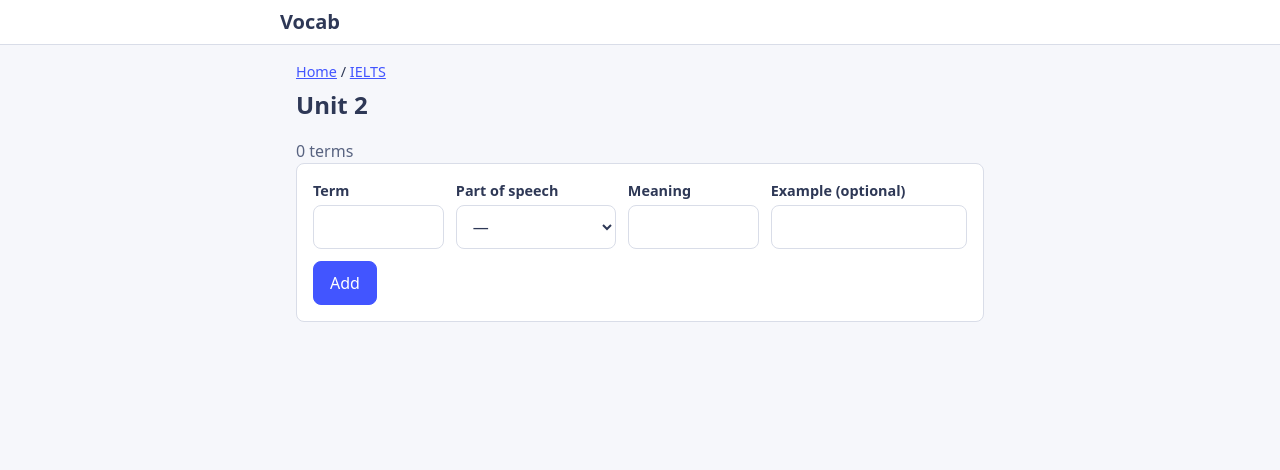
Test: terms › asks before deleting a term
The width and height of the screenshot is (1280, 470).
Expected: the heading "Unit 2" is shown, [296,88,368,121]
Type "walk" into the field labelled "Term" at (378, 227), box [313,205,444,249]
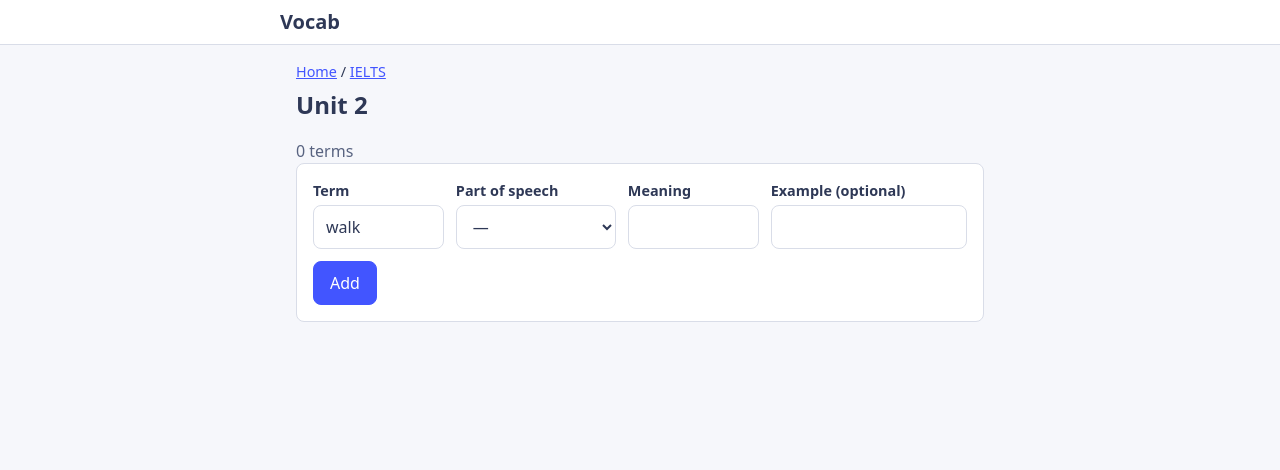
Type "đi bộ" into the field labelled "Meaning" at (693, 227), box [628,205,759,249]
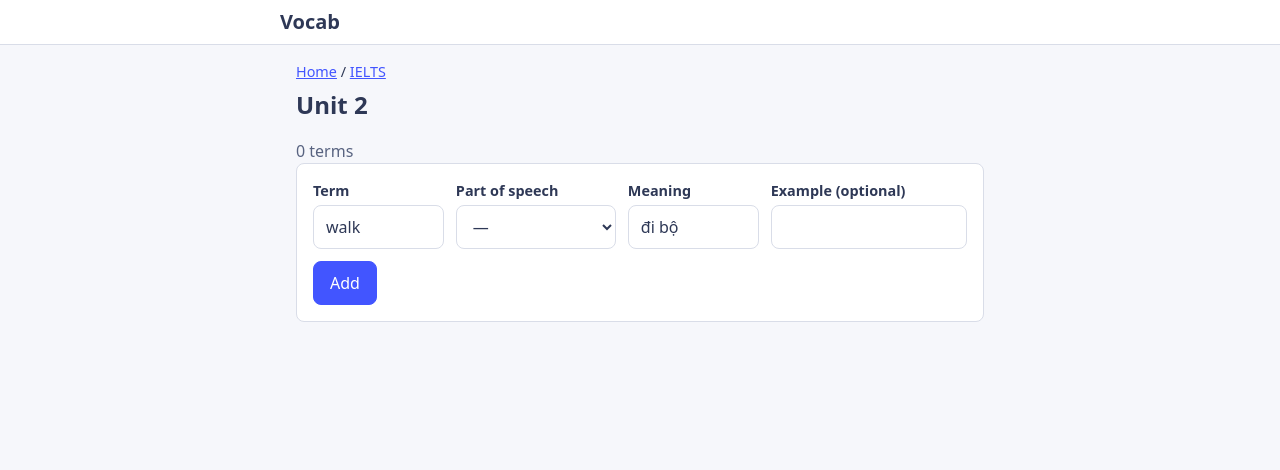
Click the button "Add" at (345, 283), box [313,261,377,305]
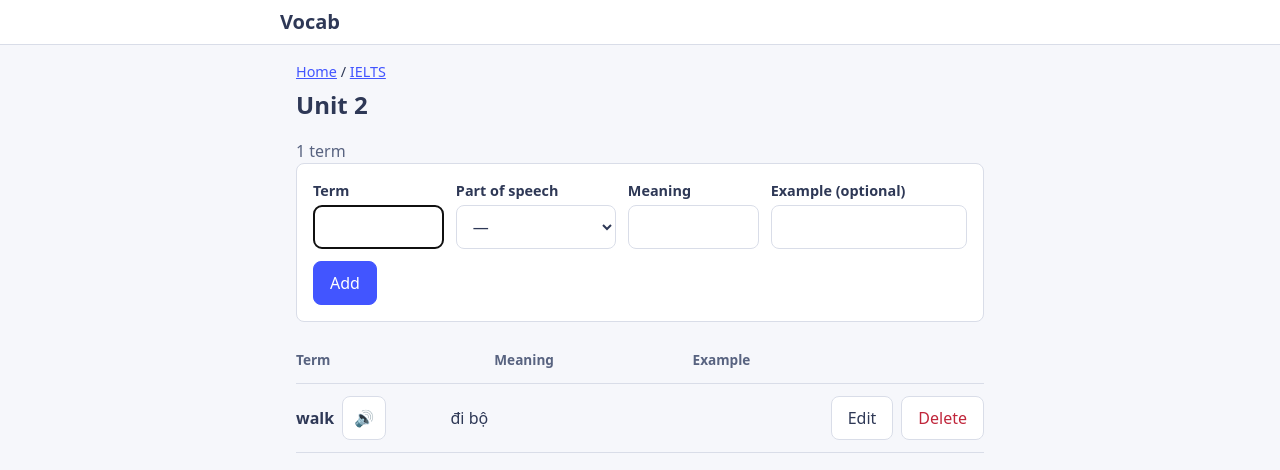
Expected: the text "walk" is shown, [296,406,334,430]
Click the button named "Delete \"walk\"" at (943, 418), box [901,396,984,440]
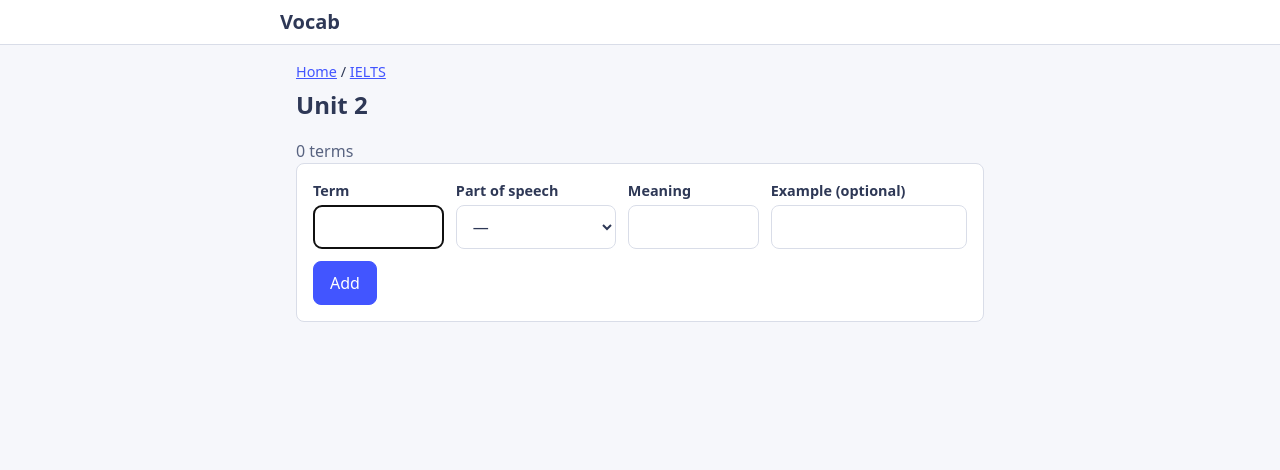
Expected: the text "walk" is gone
